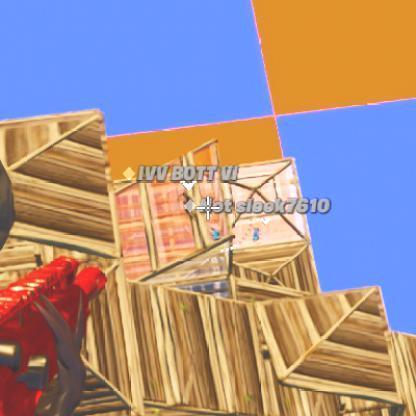person: (178, 191, 193, 221), (252, 228, 262, 240)
